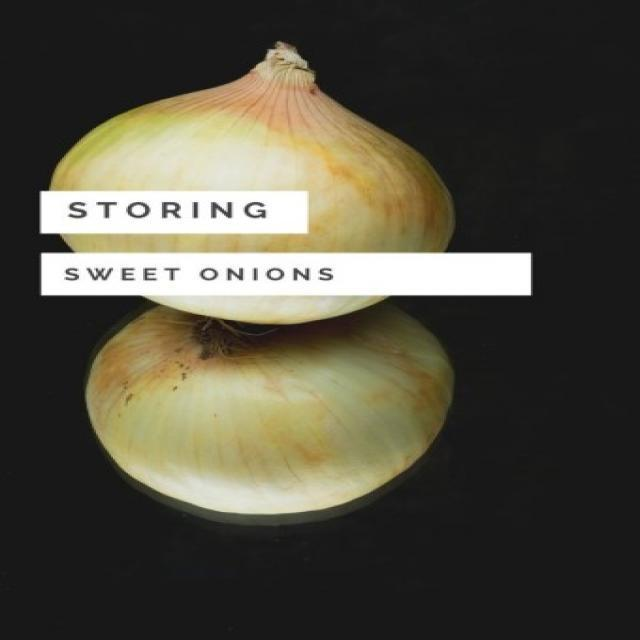onion: (50, 60, 531, 330), (74, 300, 491, 520)
